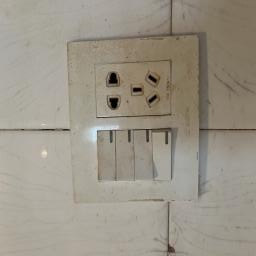outlet: (67, 29, 207, 210)
